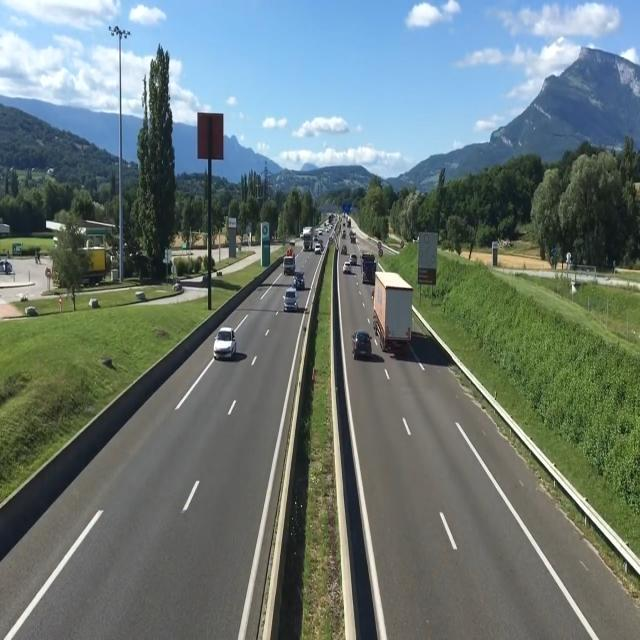Car: (210, 322, 241, 362), (349, 329, 372, 360), (281, 287, 301, 313), (290, 271, 307, 291), (347, 250, 361, 267), (312, 241, 324, 256)
Truck: (372, 267, 418, 351), (359, 252, 380, 285), (279, 250, 297, 275), (341, 261, 355, 274)
